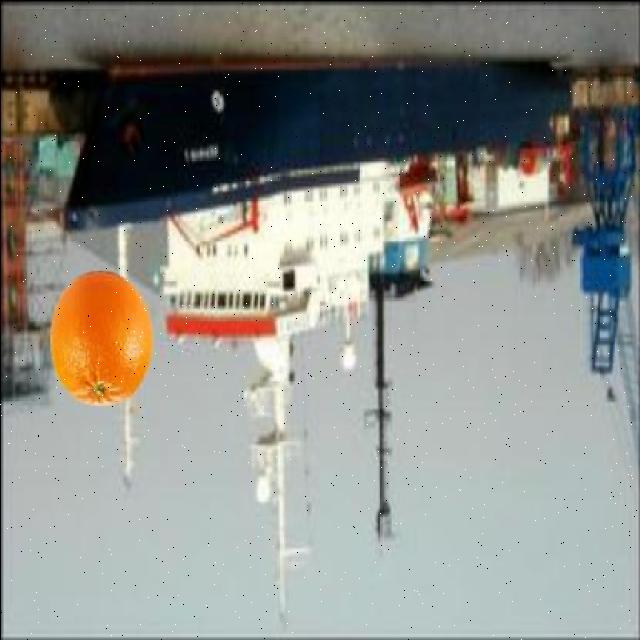Orange: (48, 268, 156, 406)
